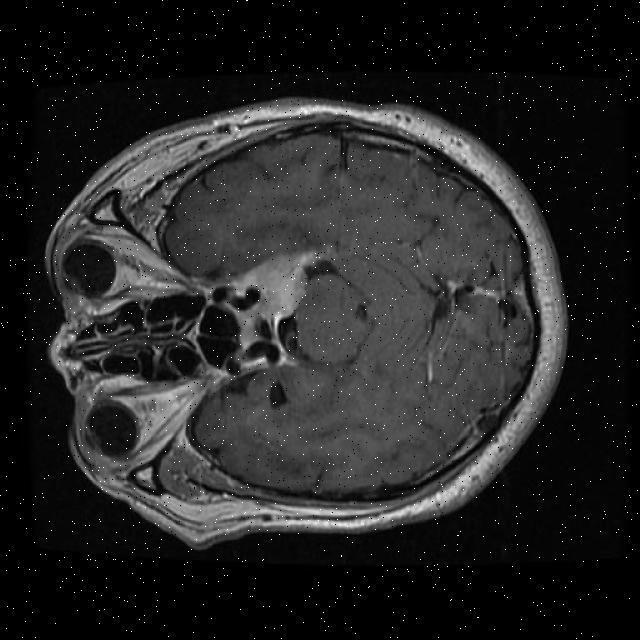Meningioma: (231, 252, 314, 335)
